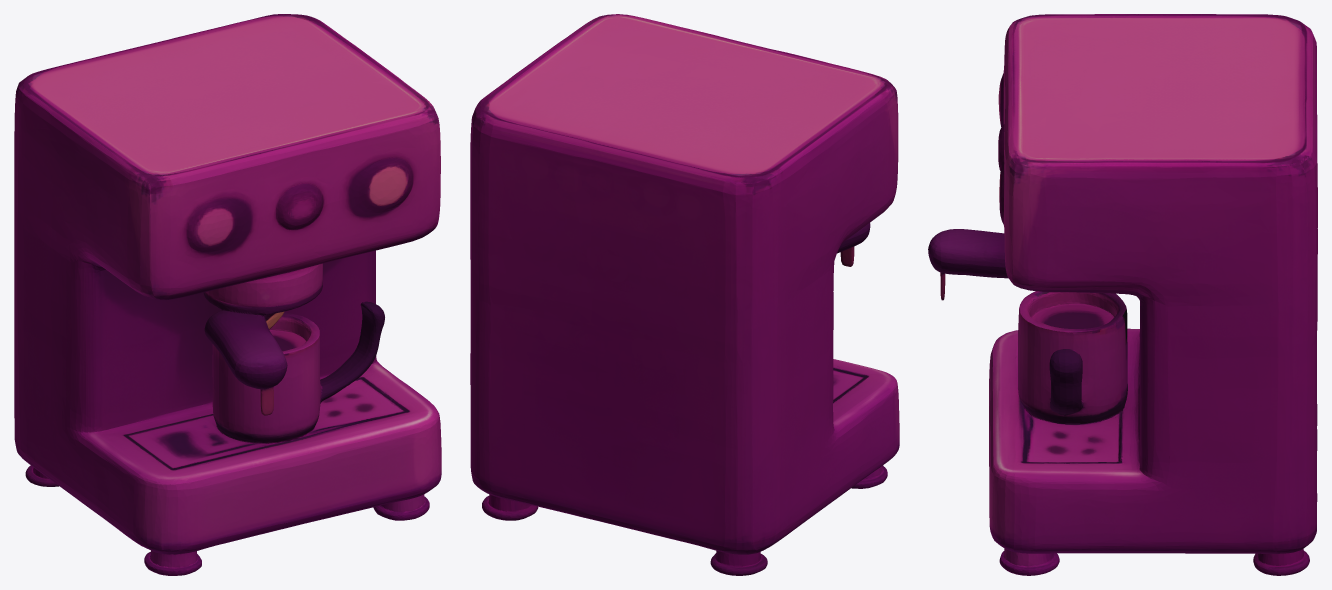
The picture shows the model from 3 angles, left to right: view 1: azimuth 30°, elevation 25°; view 2: azimuth 150°, elevation 25°; view 3: azimuth 270°, elevation 25°; orthographic projection. The views are drawn at different scales.
Parts seen in each view (by area): view 1: world; view 2: world; view 3: world.
Boxes of the visible parts, x1=… form: world: x1=14, y1=14, x2=441, y2=575; world: x1=470, y1=14, x2=899, y2=575; world: x1=928, y1=14, x2=1317, y2=575.
Size of the model in its own units: 79.88 by 99.09 by 83.41.
1 material, 1 textured.
